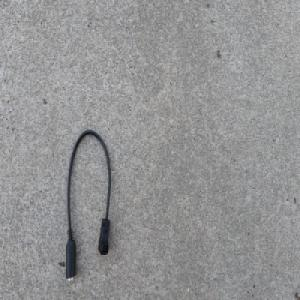Wire: (64, 128, 112, 283)
